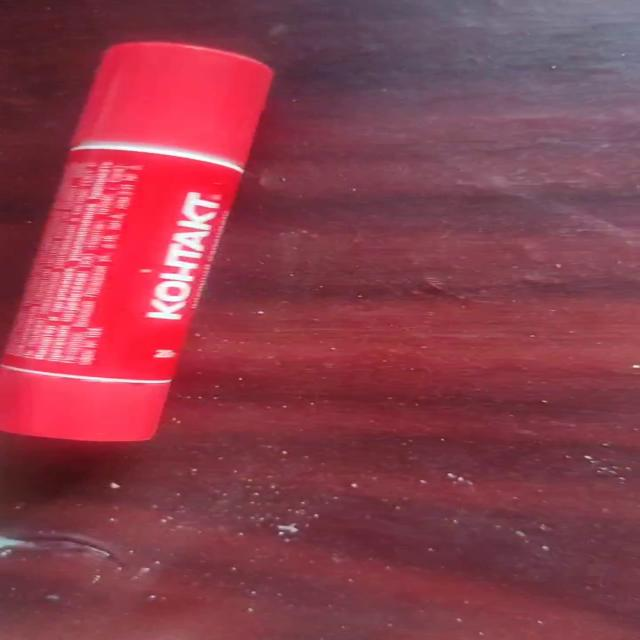glue: (1, 39, 274, 443)
